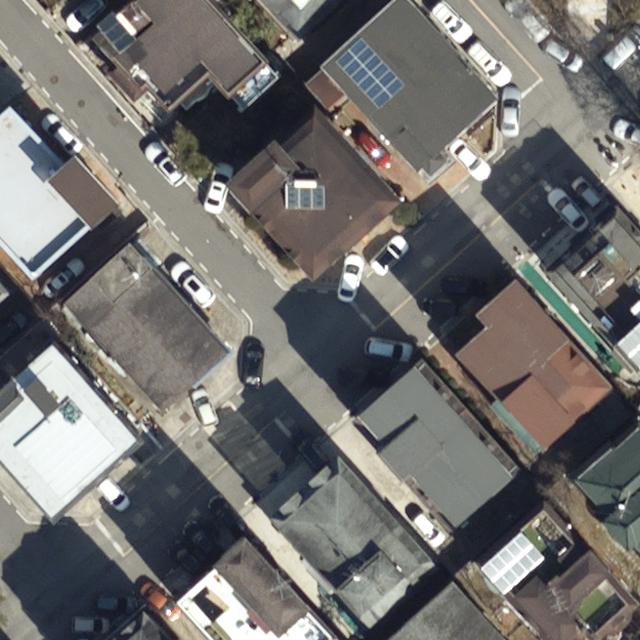panel: (334, 37, 408, 109), (477, 533, 548, 600), (93, 9, 140, 56), (283, 182, 326, 212)
